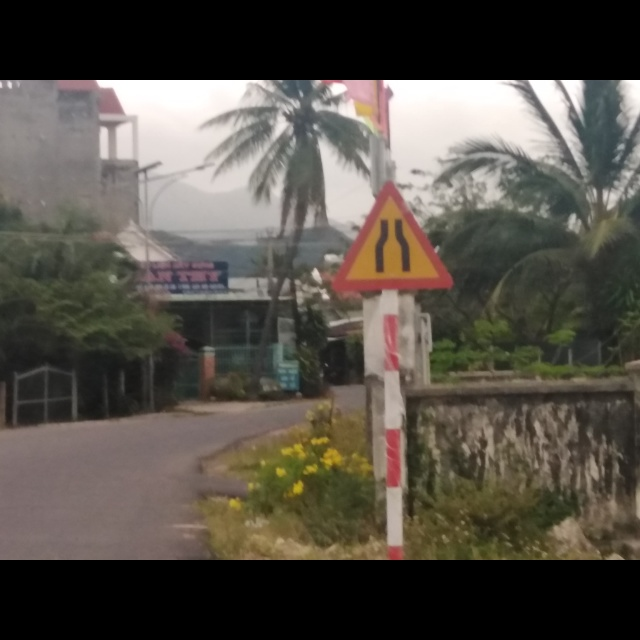Đường bị hẹp cả hai bên: (330, 180, 454, 295)
